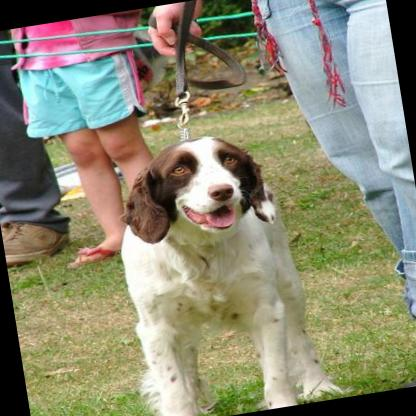English_springer: (97, 117, 339, 416)
